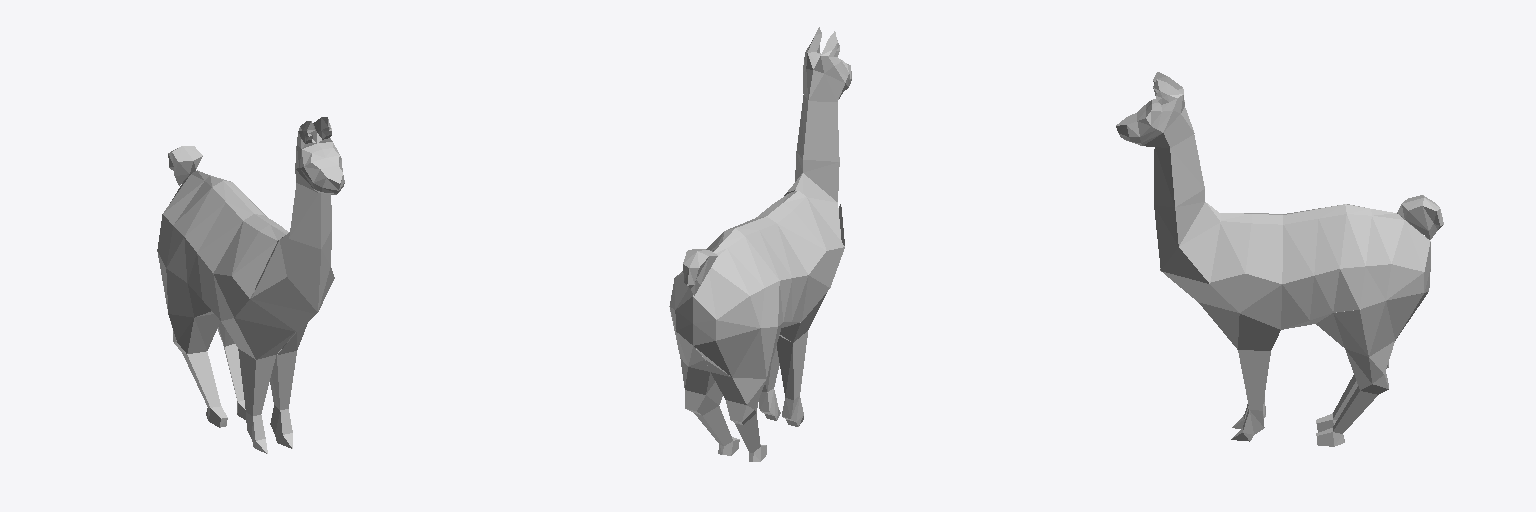
Rendered from llama.obj.
3 views of the same model, side by side, from view 1: azimuth 30°, elevation 25°; view 2: azimuth 150°, elevation 25°; view 3: azimuth 270°, elevation 25° (orthographic).
Visible parts, largest first — view 1: LlamaT, LlamaN, LlamaBR, LlamaFL, LlamaH, LlamaFR, LlamaBL, LlamaT2; view 2: LlamaT, LlamaBR, LlamaN, LlamaBL, LlamaH, LlamaFL, LlamaT2, LlamaFR; view 3: LlamaT, LlamaN, LlamaBL, LlamaFR, LlamaH, LlamaT2, LlamaBR.
Part boxes in pixels (bbox=[...]): LlamaT: bbox=[157, 170, 315, 331]; LlamaN: bbox=[252, 183, 334, 328]; LlamaBR: bbox=[157, 251, 227, 427]; LlamaFL: bbox=[221, 318, 294, 453]; LlamaH: bbox=[295, 117, 344, 194]; LlamaFR: bbox=[270, 323, 307, 448]; LlamaBL: bbox=[217, 258, 269, 419]; LlamaT2: bbox=[168, 146, 202, 185]; LlamaT: bbox=[670, 191, 844, 340]; LlamaBR: bbox=[693, 322, 790, 461]; LlamaN: bbox=[784, 95, 841, 241]; LlamaBL: bbox=[669, 306, 739, 455]; LlamaH: bbox=[803, 27, 851, 101]; LlamaFL: bbox=[777, 293, 826, 426]; LlamaT2: bbox=[683, 249, 717, 295]; LlamaFR: bbox=[759, 346, 780, 420]; LlamaT: bbox=[1160, 204, 1430, 329]; LlamaN: bbox=[1154, 135, 1220, 302]; LlamaBL: bbox=[1310, 269, 1430, 446]; LlamaFR: bbox=[1199, 303, 1280, 441]; LlamaH: bbox=[1116, 72, 1194, 147]; LlamaT2: bbox=[1397, 195, 1443, 239]; LlamaBR: bbox=[1316, 293, 1421, 432].
Bounding box in the file's own units: 9.4 × 32.74 × 26.78.